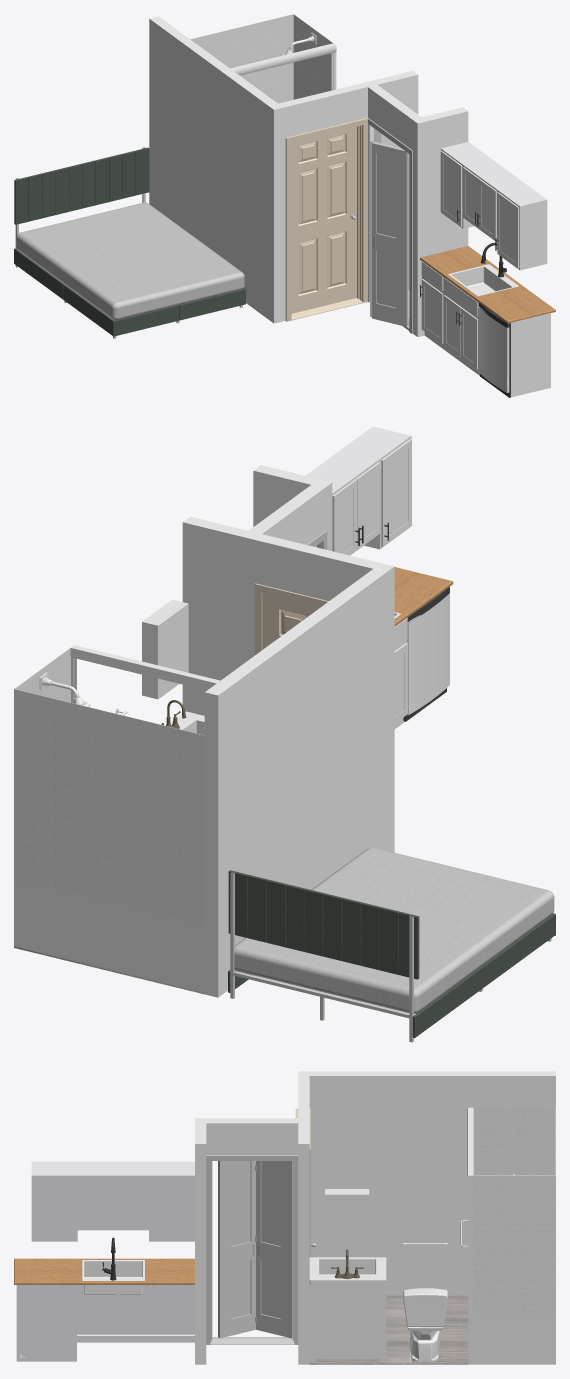
Rendered from interiors.glb.
3 renders of one model, top to bottom at view 1: azimuth 30°, elevation 25°; view 2: azimuth 150°, elevation 25°; view 3: azimuth 270°, elevation 25°, orthographic. The views are drawn at different scales.
Parts seen in each view (by area): view 1: GF- interior wall, bed_white, kitchenette_white, wood-door, bed_grey, grey_door, GF_interiorwall1, bathtub_ceramics, GF_interiorwall2, kitchenette_metal, kitchenette_wood, bathtub_metal (+1 smaller); view 2: GF- interior wall, bathtub_ceramics, bed_white, GF_interiorwall2, bed_grey, bathtub, kitchenette_white, GF_interiorwall1, kitchenette_metal, wood-door, bathtub_metal, bed_metal (+3 smaller); view 3: GF- interior wall, kitchenette_white, bathtub_ceramics, grey_door, GF_interiorwall1, bathroom_sink, bathtub, Bathroom_ground.001, kitchenette_wood, GF_interiorwall2, mirrorcab_cabinet, bathroom_toilet (+3 smaller).
Boxes of the visible parts, x1=… form: GF- interior wall: x1=149, y1=16, x2=283, y2=323; bed_white: x1=16, y1=202, x2=244, y2=320; kitchenette_white: x1=421, y1=142, x2=550, y2=397; wood-door: x1=285, y1=118, x2=367, y2=321; bed_grey: x1=14, y1=147, x2=245, y2=336; grey_door: x1=367, y1=117, x2=412, y2=333; GF_interiorwall1: x1=368, y1=85, x2=468, y2=336; bathtub_ceramics: x1=190, y1=14, x2=333, y2=103; GF_interiorwall2: x1=278, y1=71, x2=418, y2=320; kitchenette_metal: x1=448, y1=264, x2=518, y2=392; kitchenette_wood: x1=420, y1=246, x2=555, y2=323; bathtub_metal: x1=230, y1=32, x2=336, y2=90; GF- interior wall: x1=204, y1=563, x2=394, y2=997; bathtub_ceramics: x1=14, y1=648, x2=204, y2=925; bed_white: x1=234, y1=847, x2=554, y2=1014; GF_interiorwall2: x1=182, y1=516, x2=380, y2=715; bed_grey: x1=228, y1=870, x2=555, y2=1037; bathtub: x1=14, y1=879, x2=204, y2=993; kitchenette_white: x1=305, y1=426, x2=420, y2=728; GF_interiorwall1: x1=249, y1=465, x2=332, y2=550; kitchenette_metal: x1=394, y1=593, x2=449, y2=714; wood-door: x1=254, y1=583, x2=328, y2=655; bathtub_metal: x1=39, y1=645, x2=219, y2=706; bed_metal: x1=230, y1=872, x2=551, y2=1042; GF- interior wall: x1=298, y1=1071, x2=555, y2=1295; kitchenette_white: x1=16, y1=1161, x2=194, y2=1361; bathtub_ceramics: x1=473, y1=1107, x2=555, y2=1314; grey_door: x1=206, y1=1155, x2=298, y2=1344; GF_interiorwall1: x1=195, y1=1118, x2=298, y2=1364; bathroom_sink: x1=309, y1=1285, x2=386, y2=1362; bathtub: x1=468, y1=1314, x2=555, y2=1364; Bathroom_ground.001: x1=309, y1=1295, x2=468, y2=1364; kitchenette_wood: x1=14, y1=1258, x2=194, y2=1284; GF_interiorwall2: x1=298, y1=1076, x2=309, y2=1364; mirrorcab_cabinet: x1=325, y1=1189, x2=369, y2=1248; bathroom_toilet: x1=403, y1=1288, x2=447, y2=1361.
Size of the model in its own units: 3.4 by 2.46 by 5.47.
25 materials, 8 textured.
